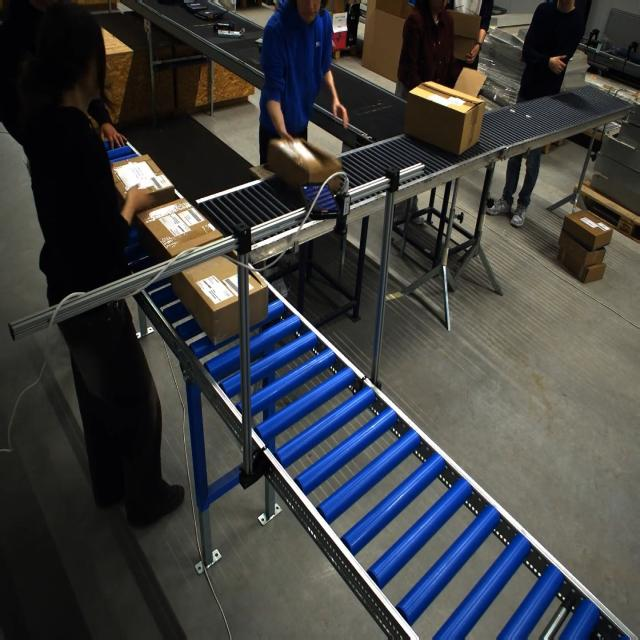box: (179, 258, 272, 343), (408, 80, 483, 164), (136, 207, 224, 264), (107, 152, 172, 208)
